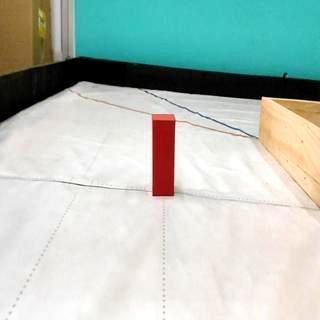redbox: (151, 113, 177, 197)
